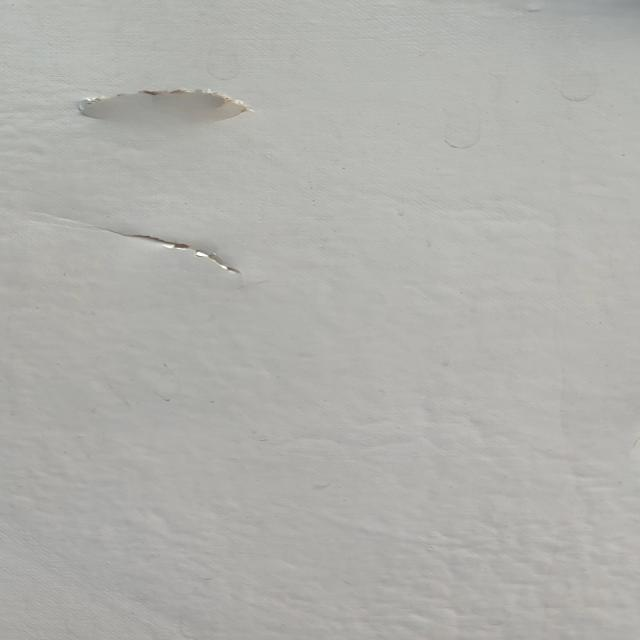Scratches: (46, 77, 278, 131)
